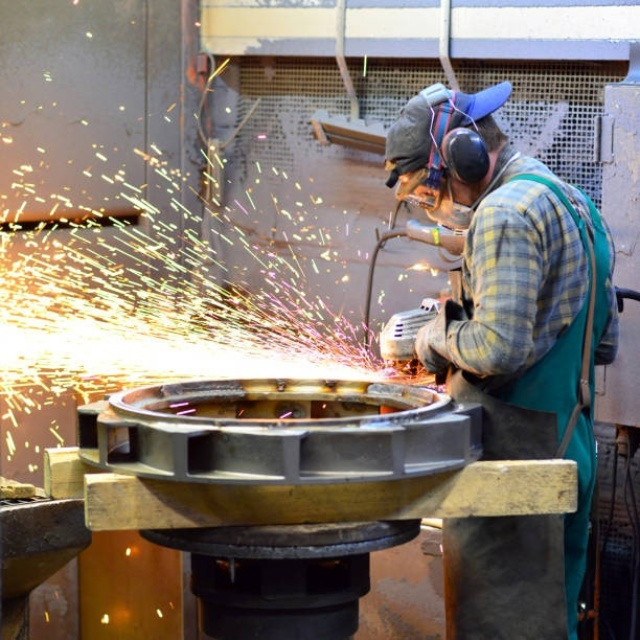Gafas: (394, 156, 447, 216)
Guantes: (411, 294, 466, 373)
Mascara: (420, 180, 468, 235)
